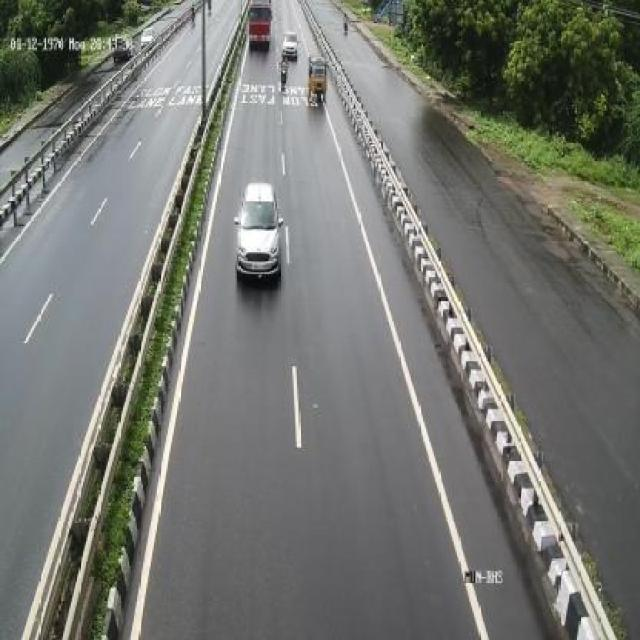car: (236, 171, 286, 292)
